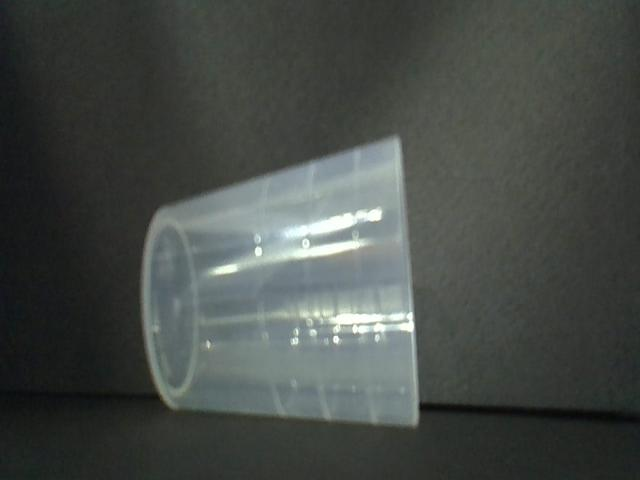cup: (134, 126, 432, 440)
